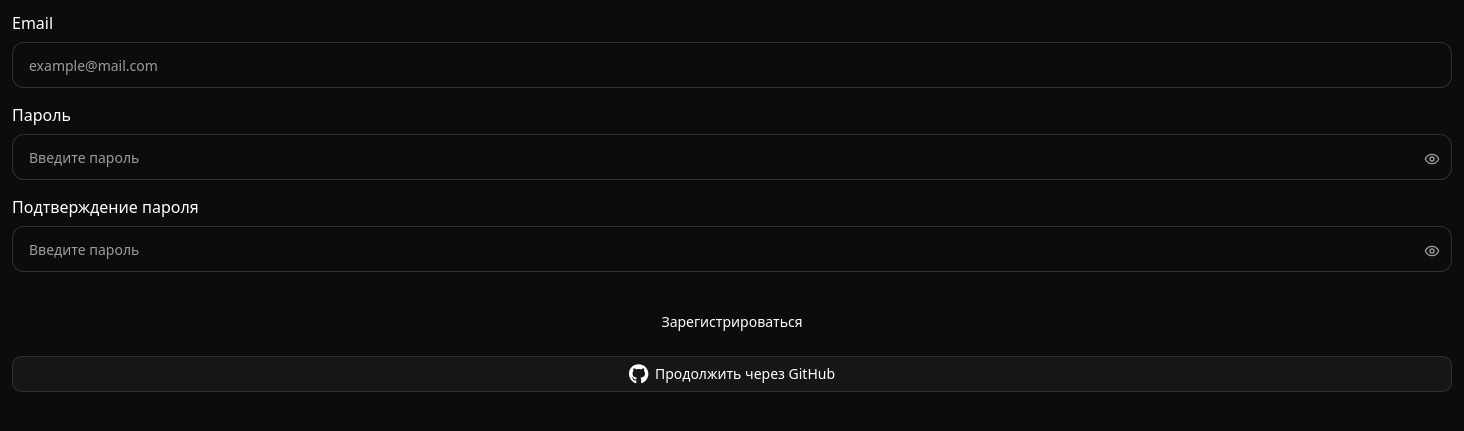
it: RegisterForm Integration Flow (T032) › validation: блокирует отправку при некорректном формате email
Type "not-an-email" into the field labelled "Email" at [732, 65], box [12, 42, 1452, 88]
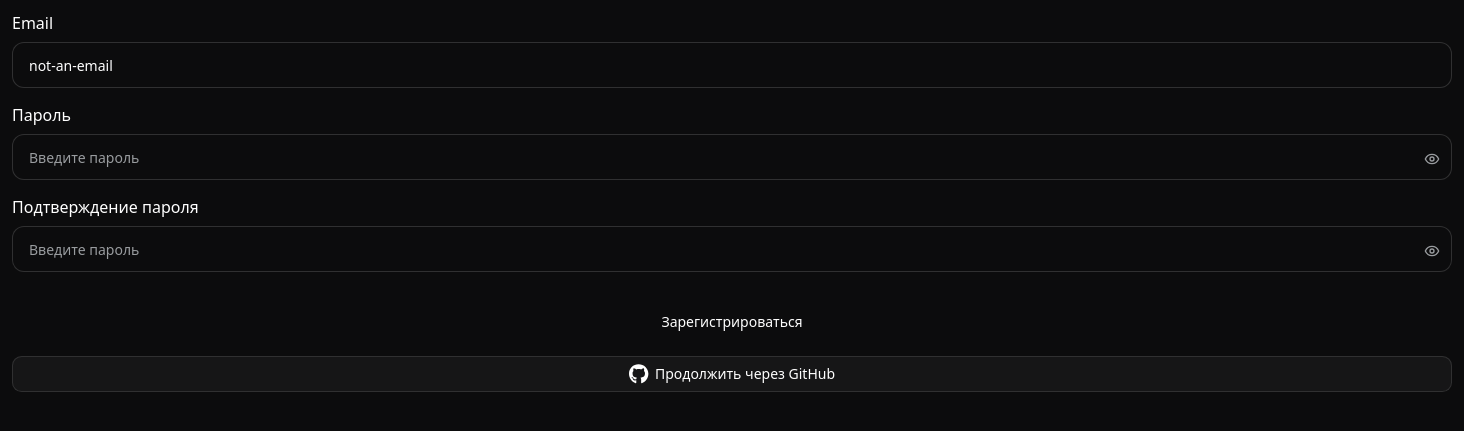
Type "Password12345!" into the password field labelled "Пароль" at [732, 157], box [12, 134, 1452, 180]
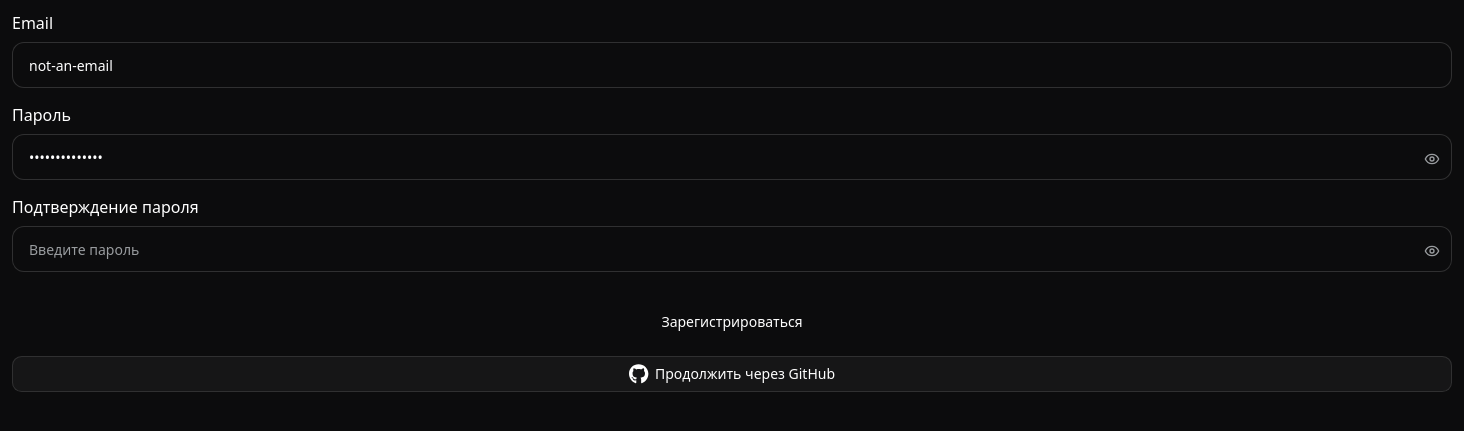
Type "Password12345!" into the password field labelled "Подтверждение пароля" at [732, 249], box [12, 226, 1452, 272]
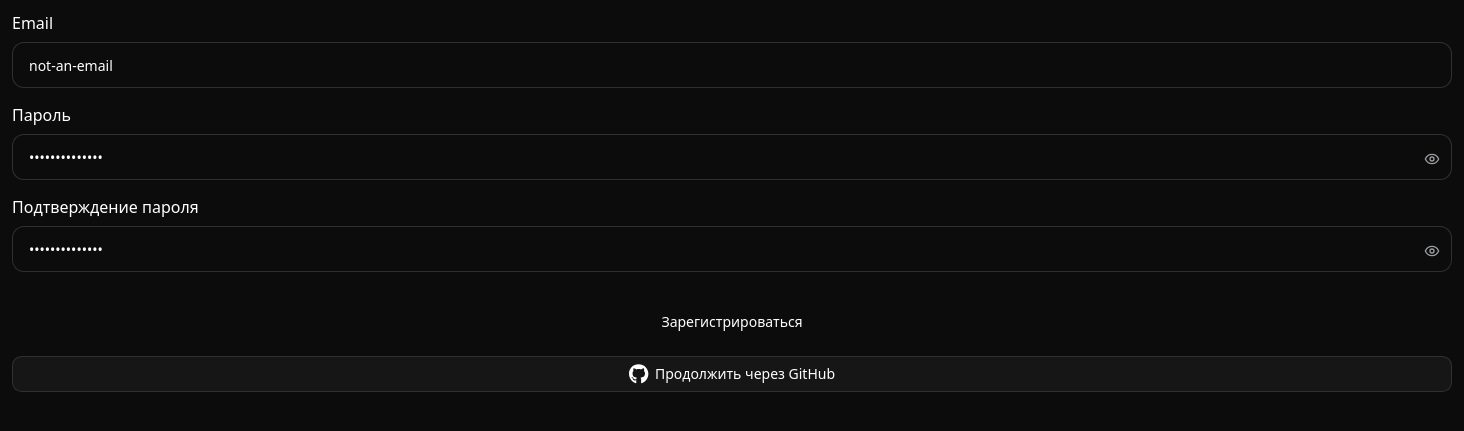
Click the button "Зарегистрироваться" at [732, 322], box [12, 304, 1452, 340]
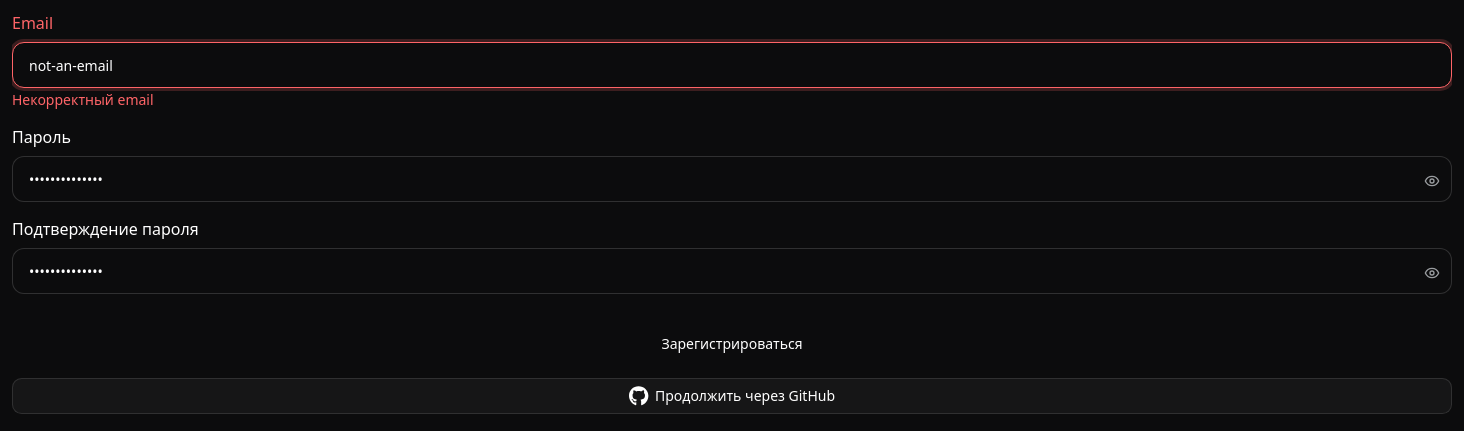
Check: the text "Некорректный email" is shown, box [12, 90, 154, 109]
